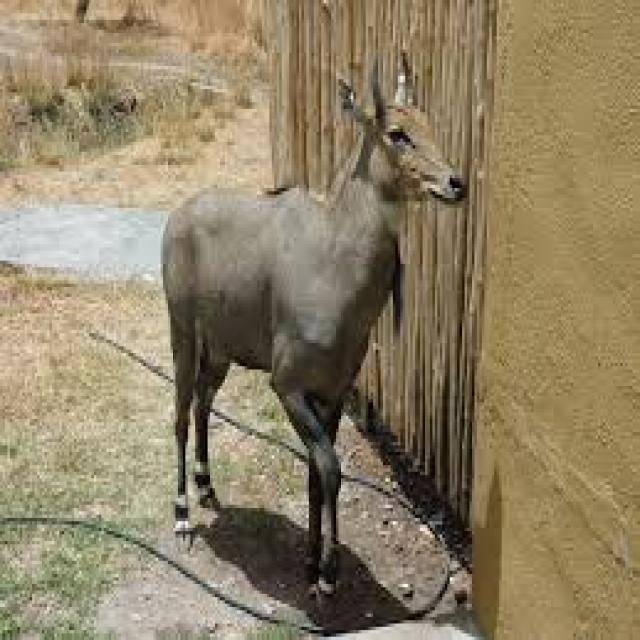objects: (124, 47, 482, 590)
